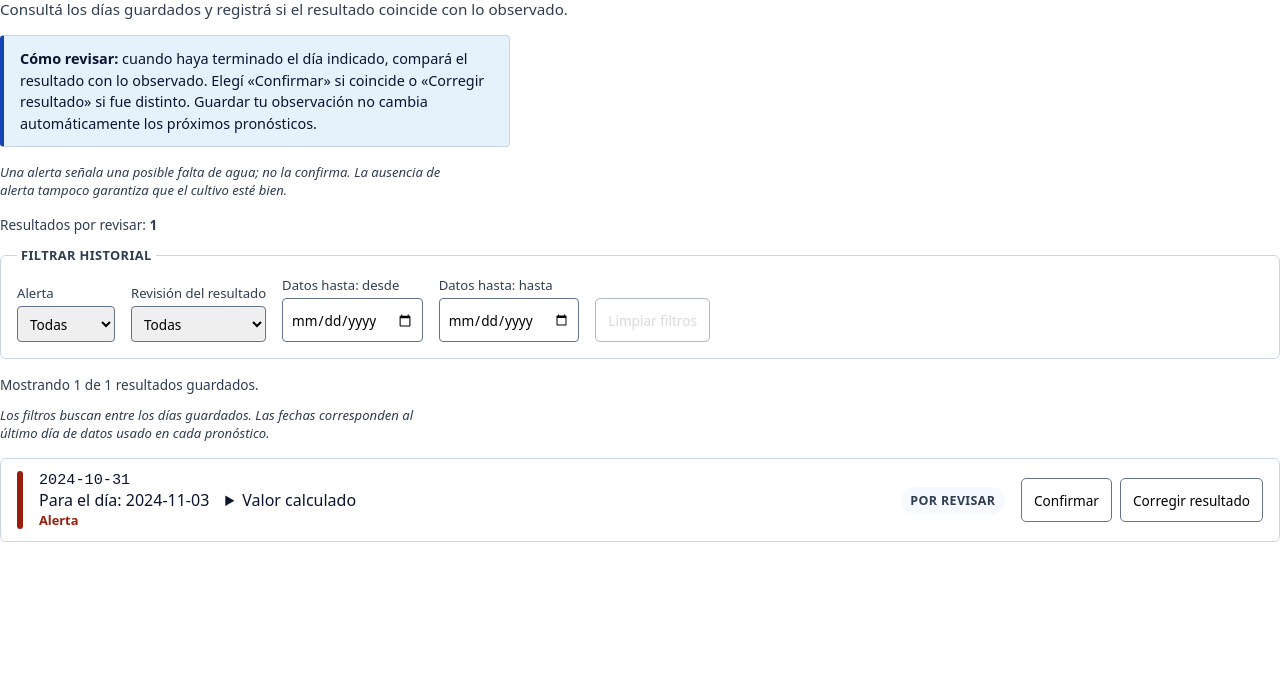
Test case: ForecastPage (Historial y observaciones) › corrección inline (task 3.1) › announces that a saved validation does not retrain the model
This screenshot has width=1280, height=697.
Expected: the text "2024-10-31" is shown, [39,471,130,489]
Click the button "Corregir resultado" at (1192, 500), box [1120,478,1263,522]
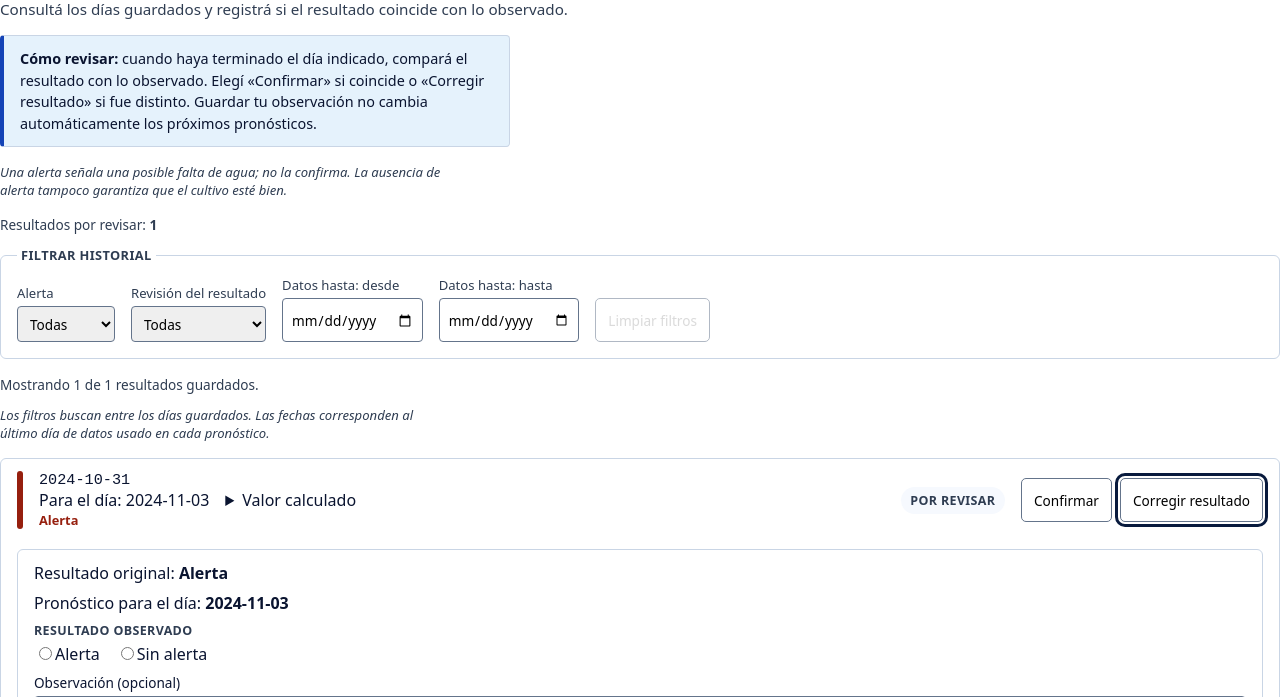
Click the radio button labelled "Sin alerta" at (127, 654), box [121,647,134,660]
(page scrolled)
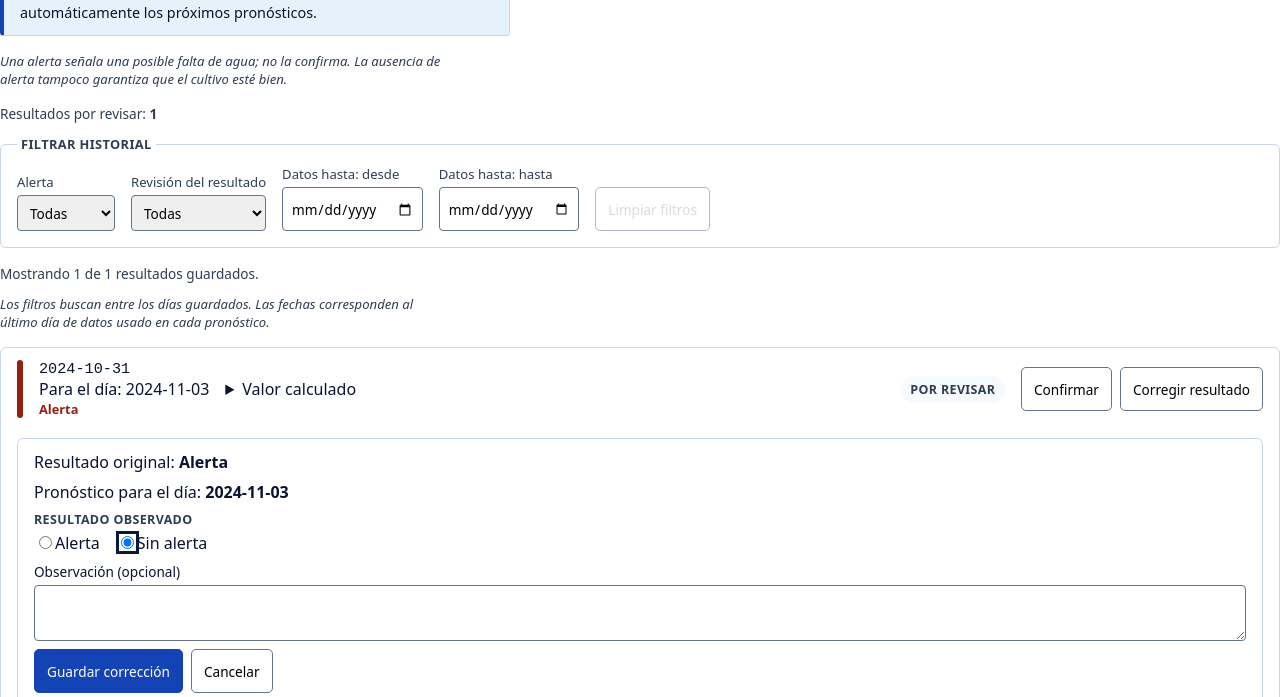
Click the button "Guardar corrección" at (108, 671), box [34,649,183,693]
(page scrolled)
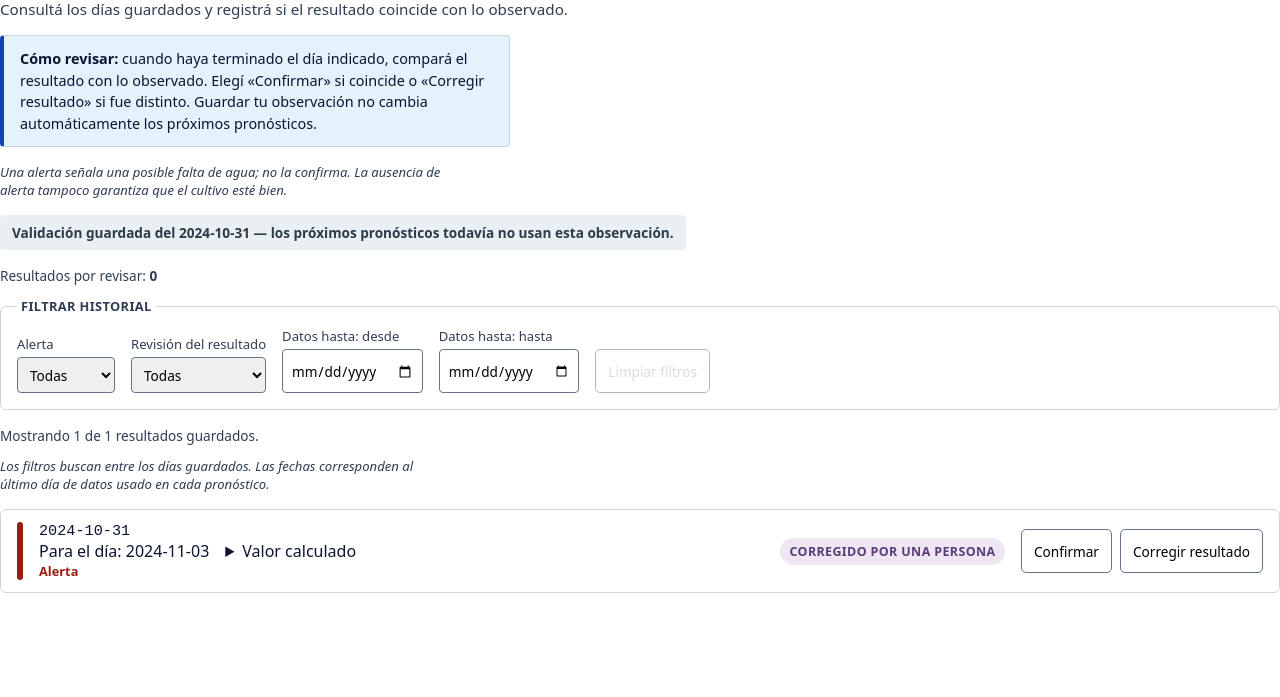
Now the text "los próximos pronósticos todavía no usan esta observación" is shown, box [12,223,674,242]
